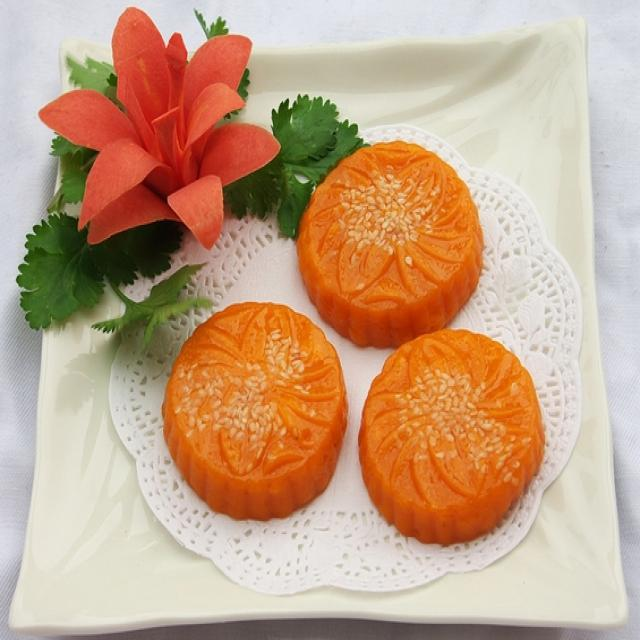炸货点心: (66, 48, 571, 583)
蛋糕甜品: (66, 48, 571, 583)
